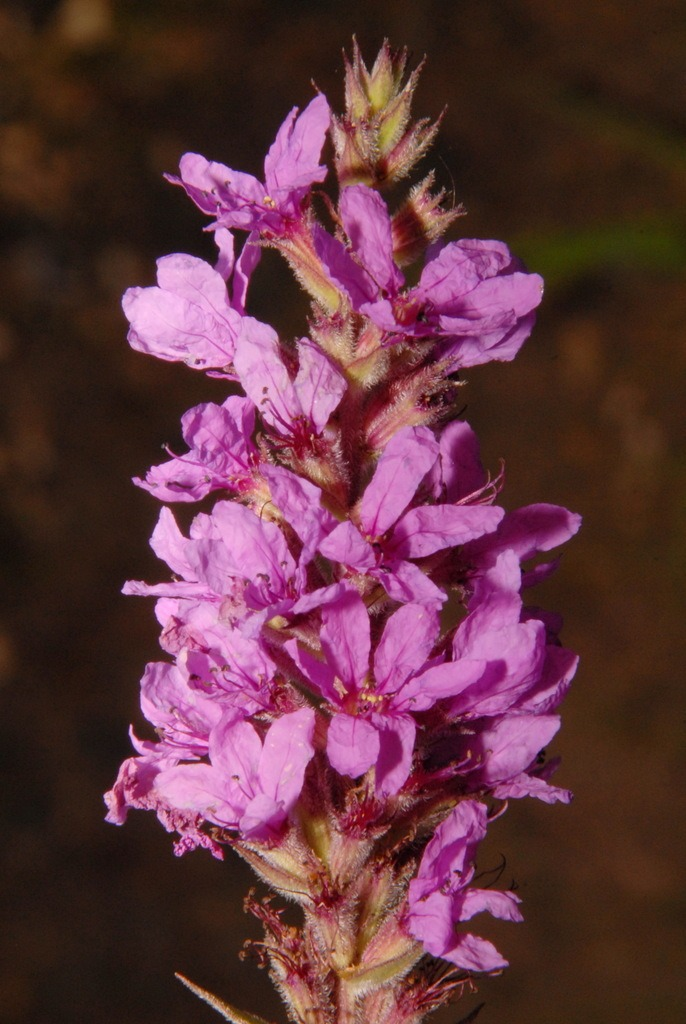purple loosestrife: (103, 34, 586, 1016)
